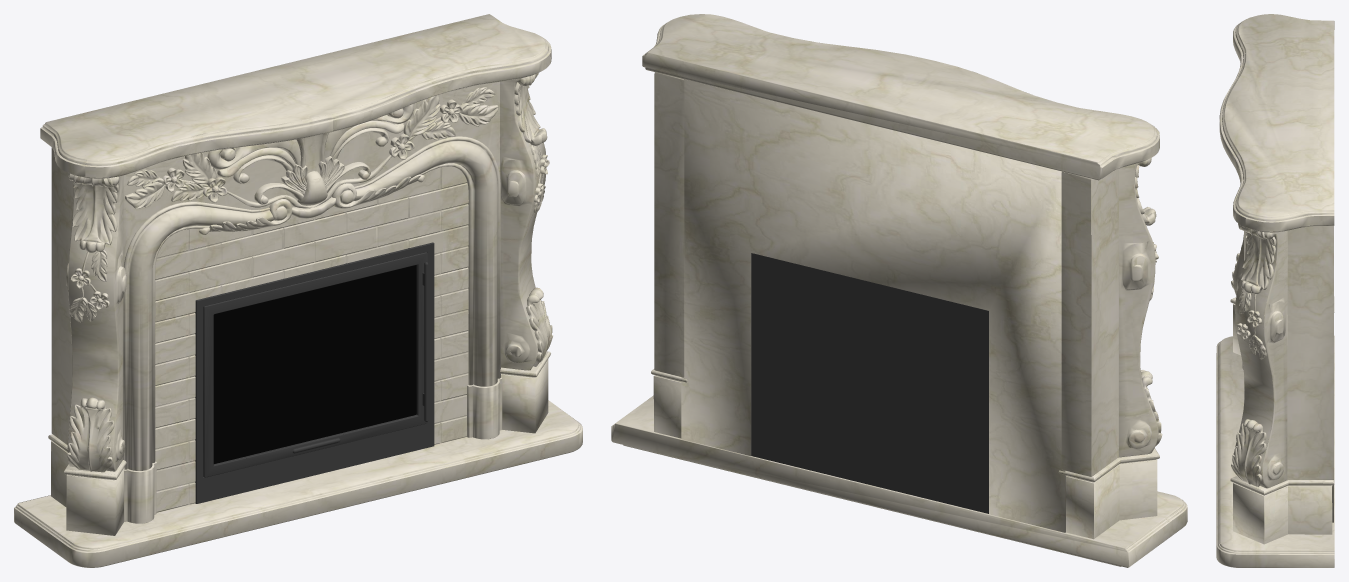
File: fireplace.glb
3 renders of one model, left to right at view 1: azimuth 30°, elevation 25°; view 2: azimuth 150°, elevation 25°; view 3: azimuth 270°, elevation 25°, orthographic. The views are drawn at different scales.
Parts seen in each view (by area): view 1: fire_003, fire_001, fire_002; view 2: fire_003, fire_002; view 3: fire_003.
Boxes of the visible parts, x1,y1,x2,y2 form: fire_003: (14,14,582,567); fire_001: (213,265,416,463); fire_002: (195,242,434,503); fire_003: (611,14,1187,567); fire_002: (751,253,988,513); fire_003: (1216,14,1334,567).
Bounding box in the file's own units: 1.48 × 1.09 × 0.3389.
3 materials, 1 textured.
